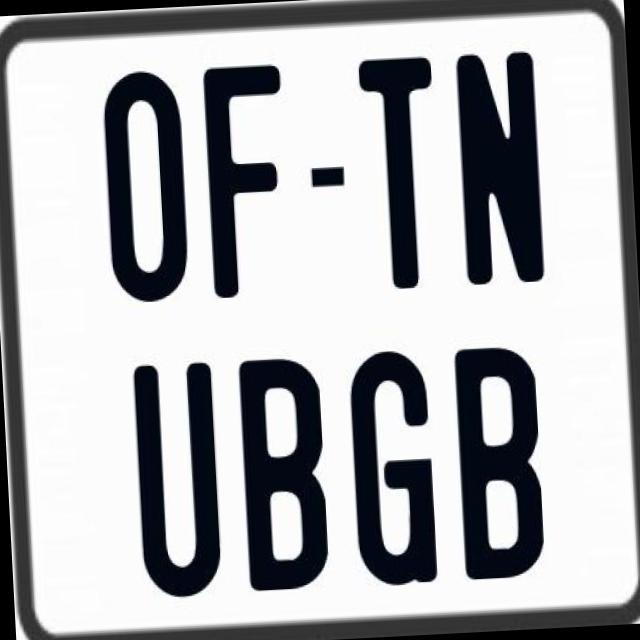0: (99, 66, 191, 310)
B: (455, 342, 551, 583), (238, 356, 329, 594)
F: (201, 59, 297, 295)
G: (348, 350, 442, 592)
N: (452, 48, 544, 282)
T: (354, 51, 446, 292)
U: (132, 360, 228, 602)
